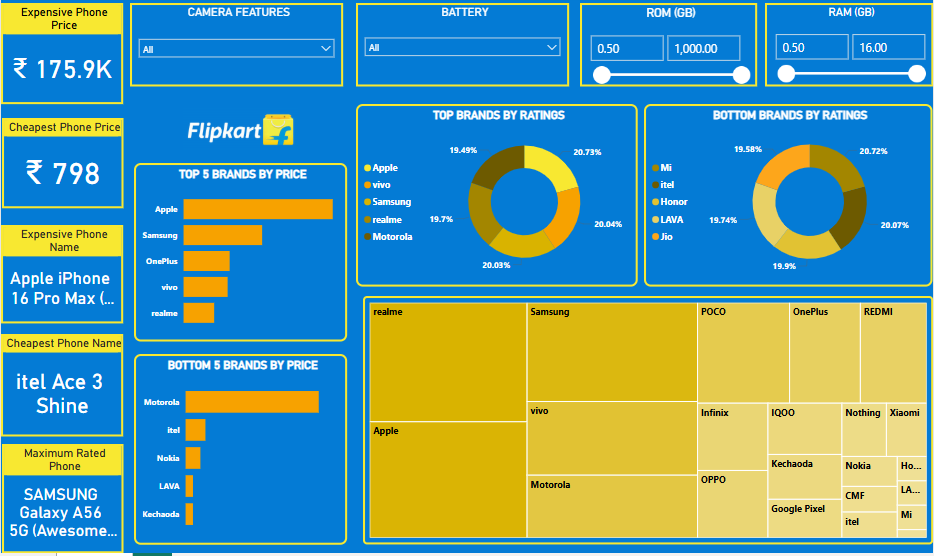

The page's visual inventory and layout, read from the dashboard file:
{"tool":"powerbi","page":{"name":"Page 1","canvas":[1373,822],"ordinal":0},"visuals":[{"type":"card","title":"Expensive Phone Name","fields":{"Values":["flipkart_mobiles_data.MaxPricePhone"]},"box":[0,338.1,180.1,144.7],"z":0},{"type":"card","title":"Cheapest Phone Name","fields":{"Values":["flipkart_mobiles_data.MinPricePhone"]},"box":[0,499,180.1,150.6],"z":1000},{"type":"card","title":"Maximum Rated Phone","fields":{"Values":["flipkart_mobiles_data.MaxRatedPhone"]},"box":[1.5,661.4,178.6,160.9],"z":2000},{"type":"card","title":"Expensive Phone Price","fields":{"Values":["flipkart_mobiles_data.Max_phone_price"]},"box":[0,11.8,180.1,149.1],"z":3000},{"type":"card","title":"Cheapest Phone Price","fields":{"Values":["flipkart_mobiles_data.min_phone_price"]},"box":[1.5,181.6,178.6,132.9],"z":4000},{"type":"image","box":[202.3,160.9,302.7,73.8],"z":5000},{"type":"slicer","title":"RAM (GB)","fields":{"Values":["flipkart_mobiles_data.RAM (GB)"]},"box":[1125,11.8,248,122.5],"z":6000},{"type":"slicer","title":"ROM (GB)","fields":{"Values":["flipkart_mobiles_data.ROM (GB)"]},"box":[853.3,11.8,261.3,122.5],"z":7000},{"type":"barChart","title":"TOP 5 BRANDS BY PRICE","fields":{"Y":["Avg(flipkart_mobiles_data.Product Price)"],"Category":["flipkart_mobiles_data.Brands"]},"box":[196.4,248,314.5,262.8],"z":8000},{"type":"slicer","title":"BATTERY","fields":{"Values":["flipkart_mobiles_data.Battery"]},"box":[522.6,11.8,314.5,122.5],"z":9000},{"type":"donutChart","title":"TOP BRANDS BY RATINGS","fields":{"Category":["flipkart_mobiles_data.Brands"],"Y":["Avg(flipkart_mobiles_data.Ratings)"]},"box":[522.6,160.9,414.9,268.7],"z":10000},{"type":"treemap","fields":{"Values":["flipkart_mobiles_data.Total_Phones"],"Group":["flipkart_mobiles_data.Brands"]},"box":[533,442.9,840,366.1],"z":11000},{"type":"slicer","title":"CAMERA FEATURES","fields":{"Values":["flipkart_mobiles_data.Camera Features"]},"box":[190.4,11.8,314.5,122.5],"z":12000},{"type":"barChart","title":"BOTTOM 5 BRANDS BY PRICE","fields":{"Y":["Avg(flipkart_mobiles_data.Product Price)"],"Category":["flipkart_mobiles_data.Brands"]},"box":[196.4,528.5,314.5,280.5],"z":12001},{"type":"donutChart","title":"BOTTOM BRANDS BY RATINGS","fields":{"Y":["Avg(flipkart_mobiles_data.Ratings)"],"Category":["flipkart_mobiles_data.Brands"]},"box":[947.8,160.9,425.2,268.7],"z":12002}]}

Visuals, with their boxes in screenshot pixels (x1, y1, x2, y2), scaled from the page's 1373x822 canvas onto the 934x556 screenshot:
"Expensive Phone Name" card: BBox(0, 229, 123, 327)
"Cheapest Phone Name" card: BBox(0, 338, 123, 439)
"Maximum Rated Phone" card: BBox(1, 447, 123, 555)
"Expensive Phone Price" card: BBox(0, 8, 123, 109)
"Cheapest Phone Price" card: BBox(1, 123, 123, 213)
image: BBox(138, 109, 344, 159)
"RAM (GB)" slicer: BBox(765, 8, 933, 91)
"ROM (GB)" slicer: BBox(580, 8, 758, 91)
"TOP 5 BRANDS BY PRICE" barChart: BBox(134, 168, 348, 346)
"BATTERY" slicer: BBox(356, 8, 569, 91)
"TOP BRANDS BY RATINGS" donutChart: BBox(356, 109, 638, 291)
treemap - flipkart_mobiles_data.Total_Phones x flipkart_mobiles_data.Brands: BBox(363, 300, 933, 547)
"CAMERA FEATURES" slicer: BBox(130, 8, 343, 91)
"BOTTOM 5 BRANDS BY PRICE" barChart: BBox(134, 357, 348, 547)
"BOTTOM BRANDS BY RATINGS" donutChart: BBox(645, 109, 933, 291)
